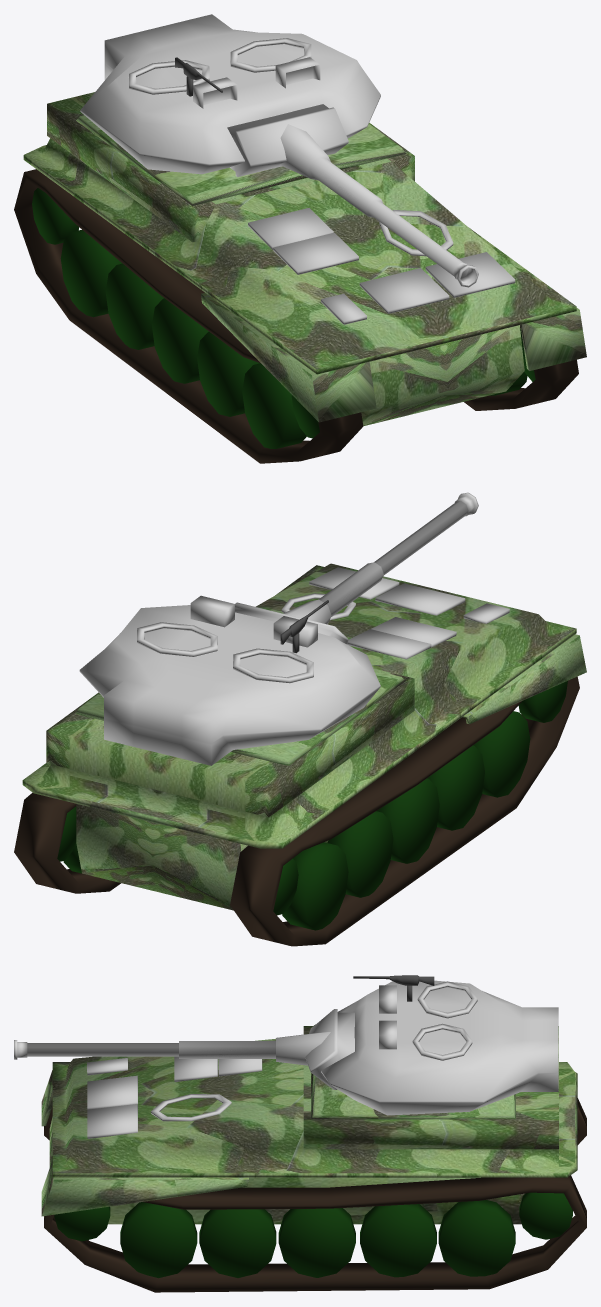
Rendered from scorpion_tank_textured_low_poly_fix.fbx.
The picture shows the model from 3 angles, top to bottom: view 1: azimuth 30°, elevation 25°; view 2: azimuth 150°, elevation 25°; view 3: azimuth 270°, elevation 25°; orthographic projection. The views are drawn at different scales.
Parts seen in each view (by area): view 1: Tank_Main_Body, Tank_Upper_Body, track_gear_low_007, Circle_010, Cannon, Cube, track_gear_low, track_gear_low_004, track_gear_low_003, track_gear_low_001, track_gear_low_002, track_gear_low_005 (+1 smaller); view 2: Tank_Main_Body, Tank_Upper_Body, track_gear_low_007, Circle_010, Cannon, track_gear_low_004, Cube, track_gear_low_003, track_gear_low_002, track_gear_low, track_gear_low_001, track_gear_low_005 (+1 smaller); view 3: Tank_Main_Body, Tank_Upper_Body, track_gear_low_007, Cannon, Circle_010, track_gear_low_004, track_gear_low_003, track_gear_low, track_gear_low_002, track_gear_low_001, Cube, track_gear_low_005 (+2 smaller).
Boxes of the visible parts, box(x1,y1,x2,y2) form: Tank_Main_Body: box(23, 92, 586, 426); Tank_Upper_Body: box(80, 14, 380, 174); track_gear_low_007: box(14, 169, 578, 463); Circle_010: box(248, 208, 515, 324); Cannon: box(227, 104, 478, 287); Cube: box(128, 38, 320, 108); track_gear_low: box(242, 363, 527, 448); track_gear_low_004: box(60, 230, 122, 317); track_gear_low_003: box(105, 263, 164, 349); track_gear_low_001: box(197, 332, 259, 416); track_gear_low_002: box(152, 298, 208, 383); track_gear_low_005: box(32, 188, 79, 244); Tank_Main_Body: box(22, 563, 586, 910); Tank_Upper_Body: box(79, 605, 380, 765); track_gear_low_007: box(14, 676, 579, 946); Circle_010: box(281, 567, 509, 659); Cannon: box(235, 492, 478, 644); track_gear_low_004: box(63, 806, 348, 930); Cube: box(137, 595, 317, 683); track_gear_low_003: box(327, 811, 393, 897); track_gear_low_002: box(376, 778, 439, 863); track_gear_low: box(473, 711, 530, 797); track_gear_low_001: box(427, 745, 484, 830); track_gear_low_005: box(57, 806, 298, 915); Tank_Main_Body: box(41, 1024, 577, 1224); Tank_Upper_Body: box(321, 980, 558, 1115); track_gear_low_007: box(44, 1098, 586, 1292); Cannon: box(14, 1009, 354, 1089); Circle_010: box(87, 1056, 262, 1138); track_gear_low_004: box(438, 1200, 515, 1276); track_gear_low_003: box(360, 1204, 436, 1277); track_gear_low: box(120, 1202, 197, 1278); track_gear_low_002: box(278, 1208, 355, 1277); track_gear_low_001: box(199, 1209, 276, 1277); Cube: box(379, 981, 477, 1060); track_gear_low_005: box(519, 1192, 572, 1239).
Bounding box in the file's own units: 2.27 × 2.21 × 4.79.
